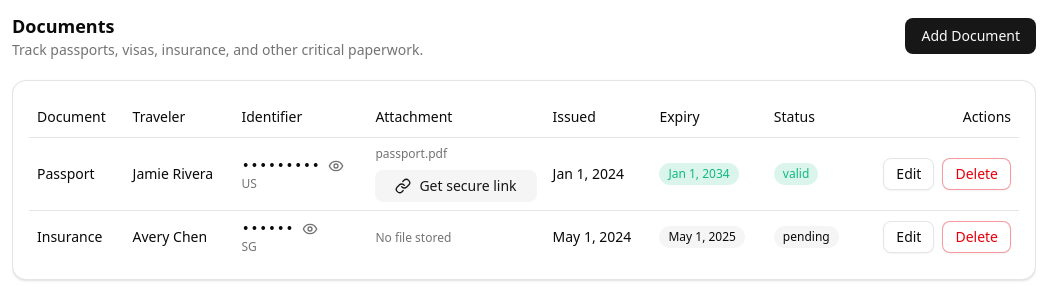
DocumentsPanel motion-enabled flows › removes a document and tears down the morph row cleanly
Click the button "Delete" in the row of "Jamie Rivera" at (977, 174), box [942,158,1011,190]
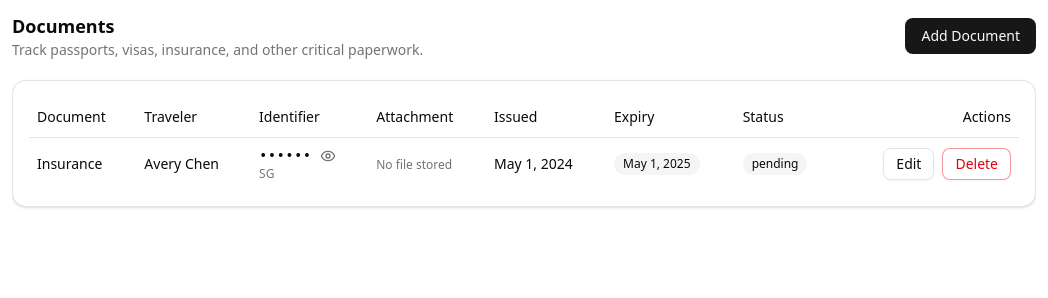
Now the text "passport.pdf" is gone
